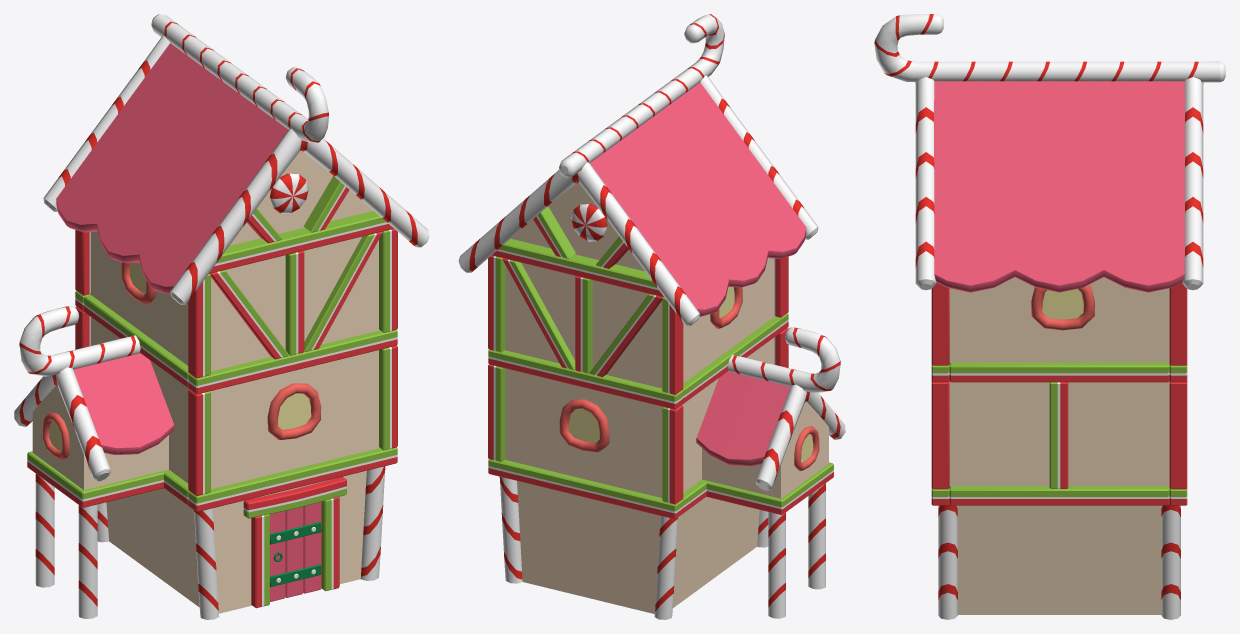
Rendered from House_4.fbx.
3 renders of one model, left to right at view 1: azimuth 30°, elevation 25°; view 2: azimuth 150°, elevation 25°; view 3: azimuth 270°, elevation 25°, orthographic. The views are drawn at different scales.
Parts seen in each view (by area): view 1: House_4; view 2: House_4; view 3: House_4.
Part boxes in pixels (bbox=[...]): House_4: bbox=[14, 14, 429, 619]; House_4: bbox=[458, 14, 845, 619]; House_4: bbox=[874, 14, 1225, 619].
Size of the model in its own units: 8.94 by 13.21 by 7.5.
